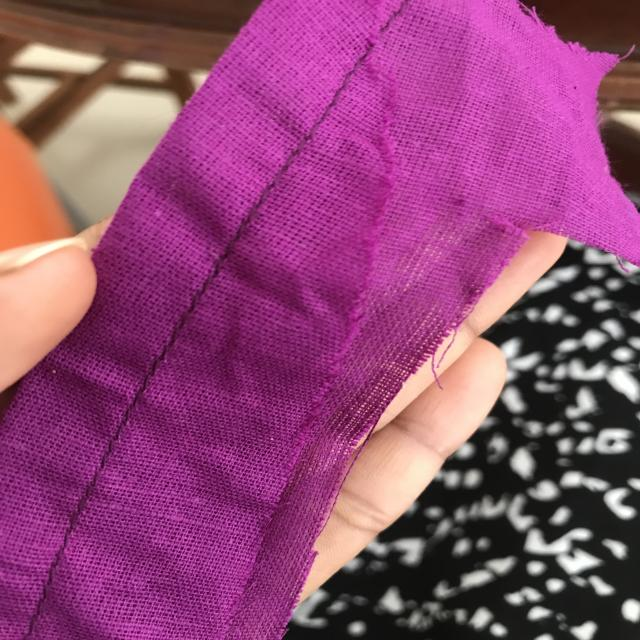good: (116, 330, 172, 430)
